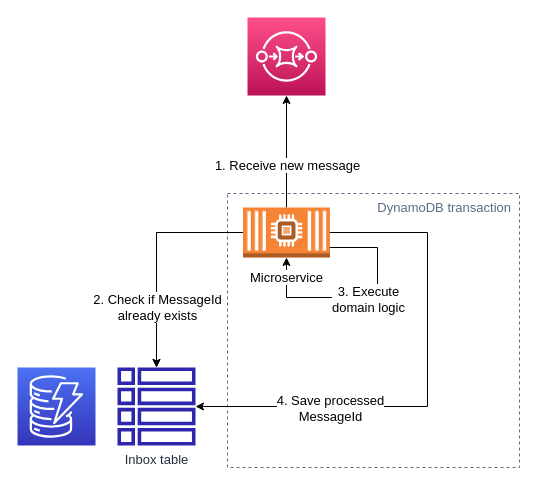
This 537x486 diagram has some shape labels left out. Each missing label, with the centre of its shape:
"DynamoDB" goes at point (56, 406).
"SQS" goes at point (286, 56).
